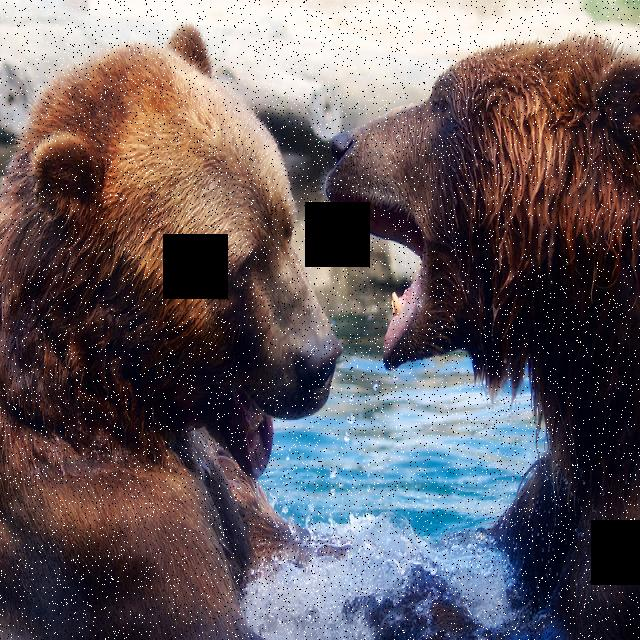Bear: (0, 24, 344, 640), (325, 29, 640, 637)
